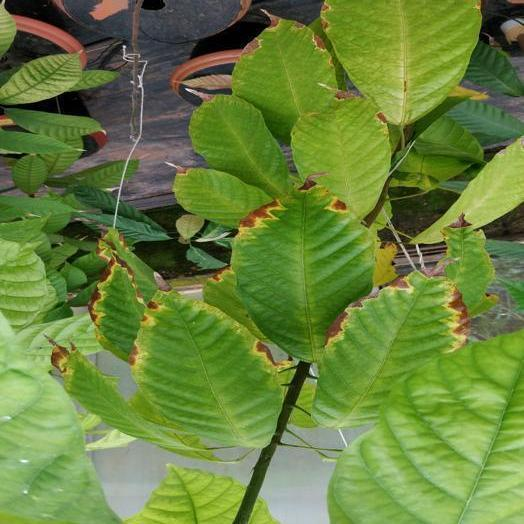Potassium: (129, 273, 282, 447), (313, 259, 468, 428), (232, 177, 374, 361), (233, 17, 337, 143), (89, 251, 144, 360), (444, 213, 495, 316)
